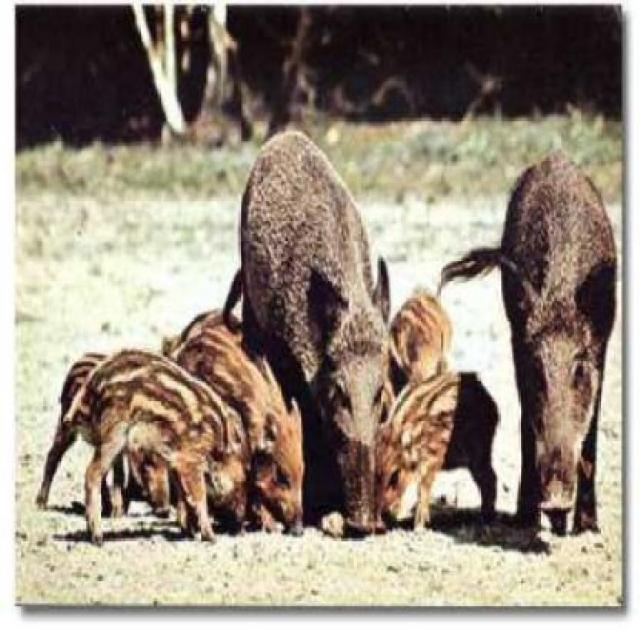Boar: (170, 113, 448, 544), (434, 142, 638, 568)
